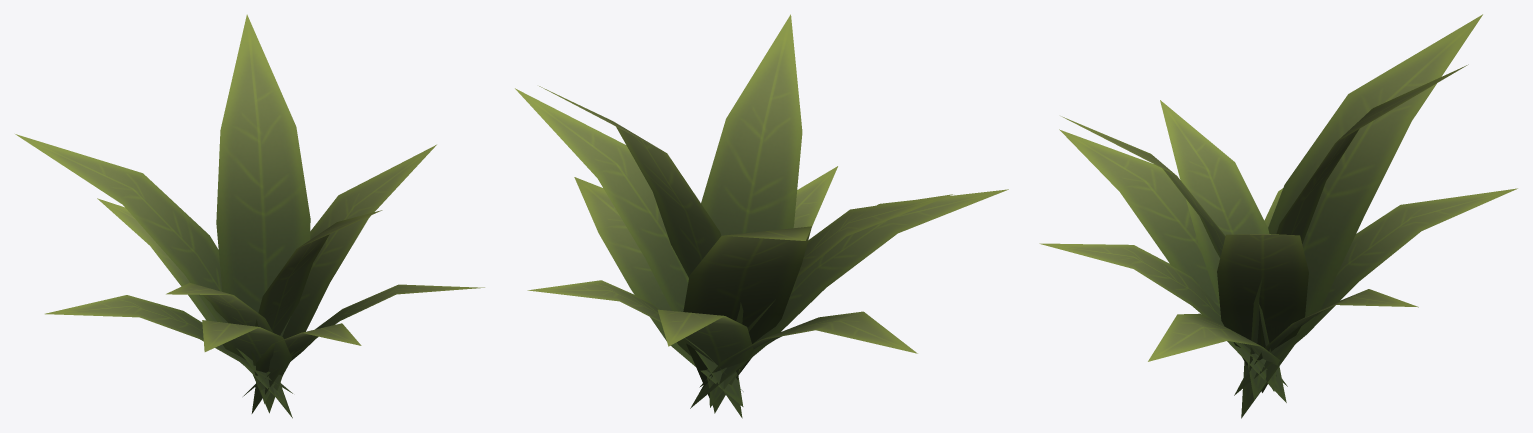
The model's file is assets_bush2.fbx.
The picture shows the model from 3 angles, left to right: view 1: azimuth 30°, elevation 25°; view 2: azimuth 150°, elevation 25°; view 3: azimuth 270°, elevation 25°; orthographic projection. The views are drawn at different scales.
Parts seen in each view (by area): view 1: assets_bush2; view 2: assets_bush2; view 3: assets_bush2.
Boxes of the visible parts, x1,y1,x2,y2 form: assets_bush2: (15, 14, 484, 418); assets_bush2: (515, 14, 1008, 418); assets_bush2: (1039, 14, 1517, 418).
Size of the model in its own units: 6.77 by 5.77 by 6.55.
